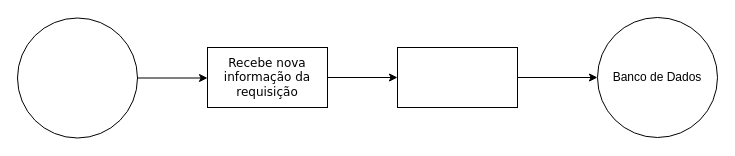
Some shapes in this 735 by 156 pixel diagram are drawn without their labels. The centre of each missing label's shape, as x and y in pixels:
"Identificação das informações" goes at pixel 77 77.
"Identificação do tipo da variável" goes at pixel 457 77.
